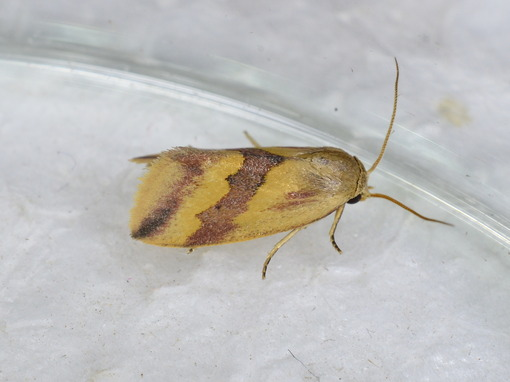Noctuidae: (125, 50, 455, 282)
